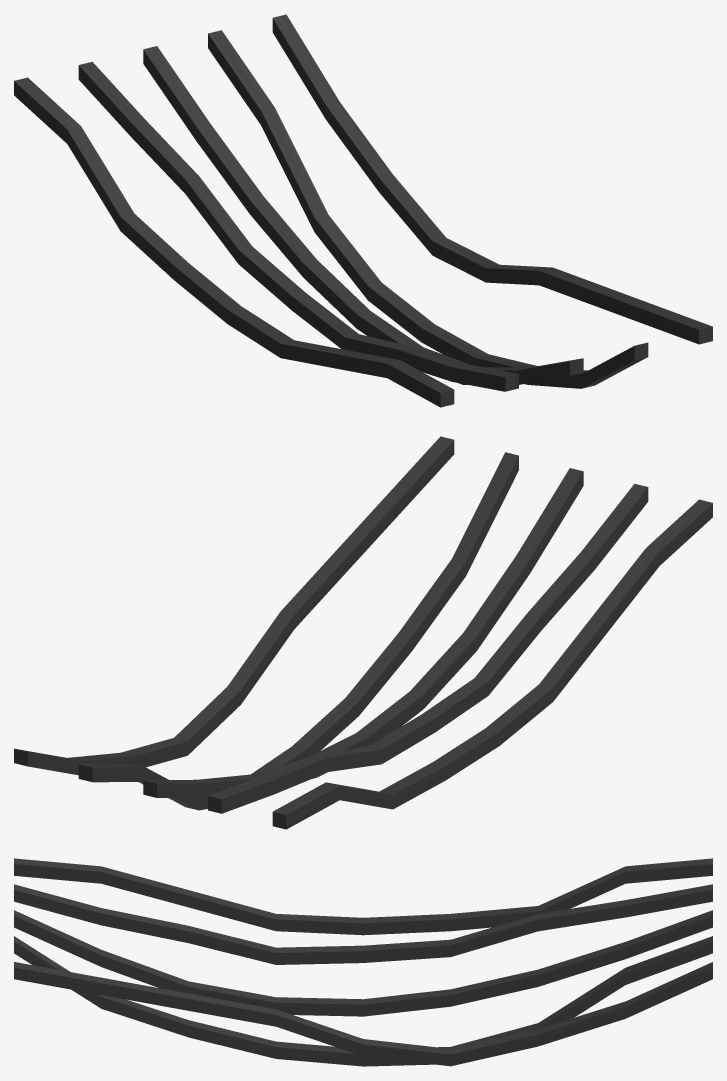
File: cable1.obj
3 renders of one model, top to bottom at view 1: azimuth 30°, elevation 25°; view 2: azimuth 150°, elevation 25°; view 3: azimuth 270°, elevation 25°, orthographic. The views are drawn at different scales.
Parts seen in each view (by area): view 1: cable1; view 2: cable1; view 3: cable1.
Part boxes in pixels (left/top/right/bottom): cable1: left=14, top=14, right=712, bottom=407; cable1: left=14, top=436, right=712, bottom=829; cable1: left=14, top=858, right=712, bottom=1066.
Bounding box in the file's own units: 1.48 × 0.7897 × 4.
Materials: 1 (1 with a texture image).
